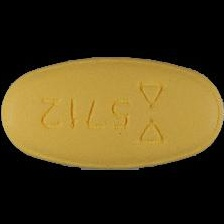21695-568: (0, 0, 224, 224)
